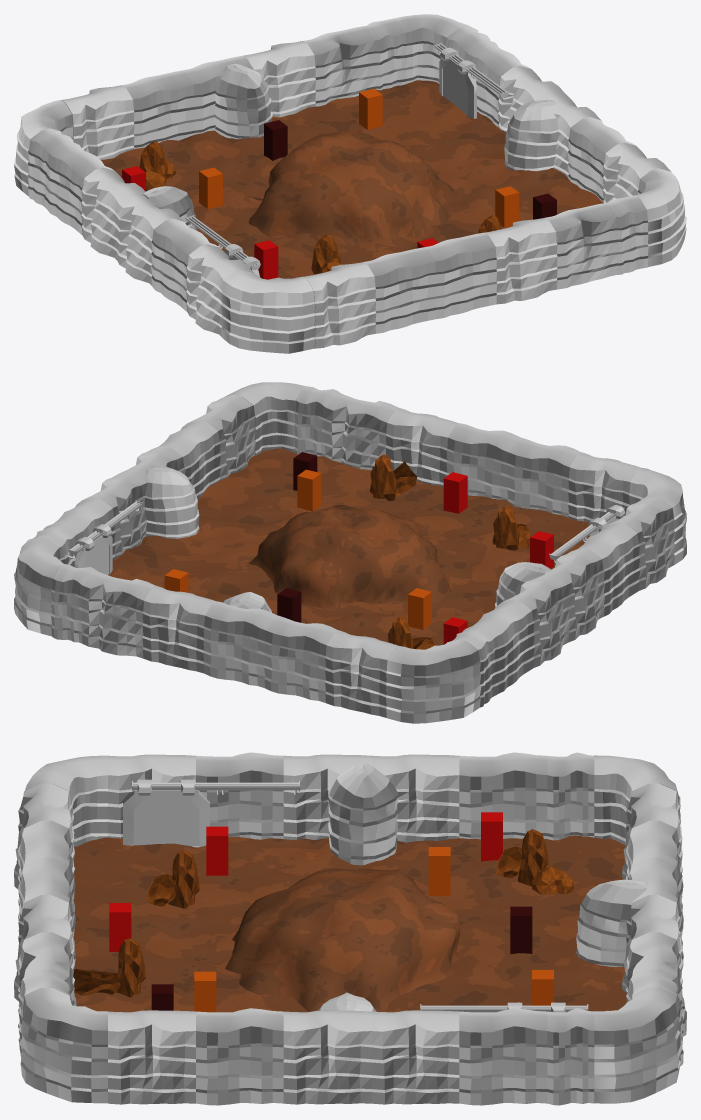
Rendered from Level1_B1V3_Collapsed_F25.fbx.
The picture shows the model from 3 angles, top to bottom: view 1: azimuth 30°, elevation 25°; view 2: azimuth 150°, elevation 25°; view 3: azimuth 270°, elevation 25°; orthographic projection. The views are drawn at different scales.
Parts seen in each view (by area): view 1: Walls, Floor, CenterMountain, level1_door_Enter, Rock1, Prop, Prop1, Prop2, Blurrg2, Stormtrooper2, level1_doorrail_Enter, level1_doorrail_Exit (+2 smaller); view 2: Walls, Floor, CenterMountain, Rock1, level1_door_Enter, Stormtrooper3, Prop2, Prop1, Stormtrooper2, Blurrg2, level1_doorrail_Enter, level1_doorrail_Exit (+1 smaller); view 3: Walls, Floor, CenterMountain, level1_door_Exit, Rock1, Rock2, level1_doorrail_Exit, Stormtrooper2, Prop1, Blurrg2, Stormtrooper, Stormtrooper3 (+4 smaller).
Part boxes in pixels (left/top/right/bottom): Walls: left=14, top=14, right=686, bottom=353; Floor: left=101, top=80, right=603, bottom=278; CenterMountain: left=248, top=130, right=457, bottom=246; level1_door_Enter: left=439, top=47, right=476, bottom=118; Rock1: left=139, top=141, right=501, bottom=274; Prop: left=359, top=88, right=382, bottom=129; Prop1: left=199, top=167, right=222, bottom=208; Prop2: left=495, top=186, right=519, bottom=227; Blurrg2: left=264, top=120, right=287, bottom=160; Stormtrooper2: left=254, top=240, right=278, bottom=279; level1_doorrail_Enter: left=433, top=42, right=514, bottom=99; level1_doorrail_Exit: left=185, top=215, right=260, bottom=270; Walls: left=14, top=382, right=686, bottom=723; Floor: left=108, top=448, right=589, bottom=645; CenterMountain: left=248, top=504, right=451, bottom=615; Rock1: left=370, top=454, right=519, bottom=648; level1_door_Enter: left=74, top=524, right=112, bottom=574; Stormtrooper3: left=443, top=472, right=467, bottom=513; Prop2: left=297, top=469, right=321, bottom=511; Prop1: left=408, top=588, right=431, bottom=629; Stormtrooper2: left=530, top=531, right=553, bottom=568; Blurrg2: left=277, top=588, right=301, bottom=622; level1_doorrail_Enter: left=65, top=500, right=144, bottom=558; level1_doorrail_Exit: left=549, top=507, right=624, bottom=562; Walls: left=14, top=752, right=686, bottom=1105; Floor: left=73, top=835, right=626, bottom=1012; CenterMountain: left=225, top=868, right=460, bottom=1011; level1_door_Exit: left=123, top=779, right=209, bottom=847; Rock1: left=73, top=829, right=548, bottom=997; Rock2: left=146, top=846, right=574, bottom=906; level1_doorrail_Exit: left=132, top=781, right=299, bottom=794; Stormtrooper2: left=206, top=826, right=228, bottom=875; Prop1: left=428, top=847, right=450, bottom=895; Blurrg2: left=510, top=906, right=532, bottom=954; Stormtrooper: left=481, top=812, right=502, bottom=861; Stormtrooper3: left=109, top=903, right=131, bottom=951.
Bounding box in the file's own units: 1195 × 241 × 1206.
